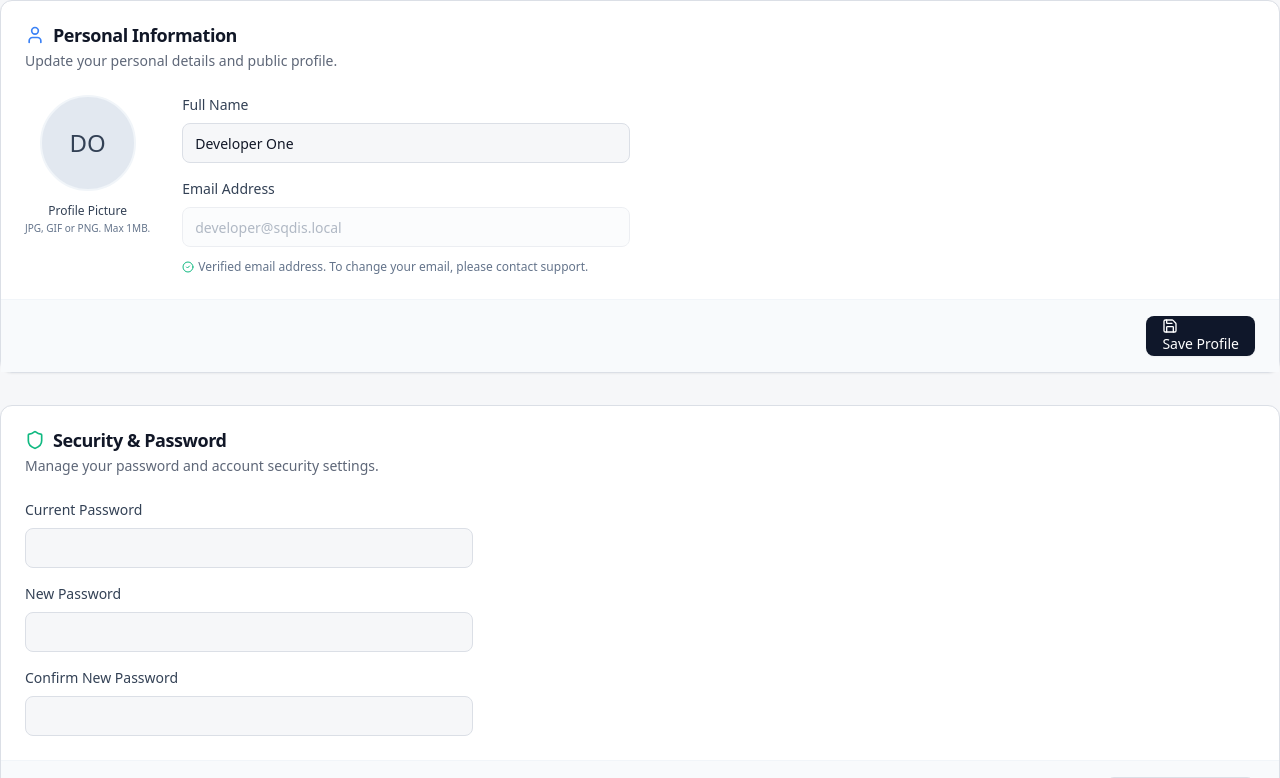
ProfileSettings › shows error when new password is too short
This screenshot has width=1280, height=778.
Type "CurrentPass123!" into the password field labelled "Current Password" at (249, 548), box [25,528,473,568]
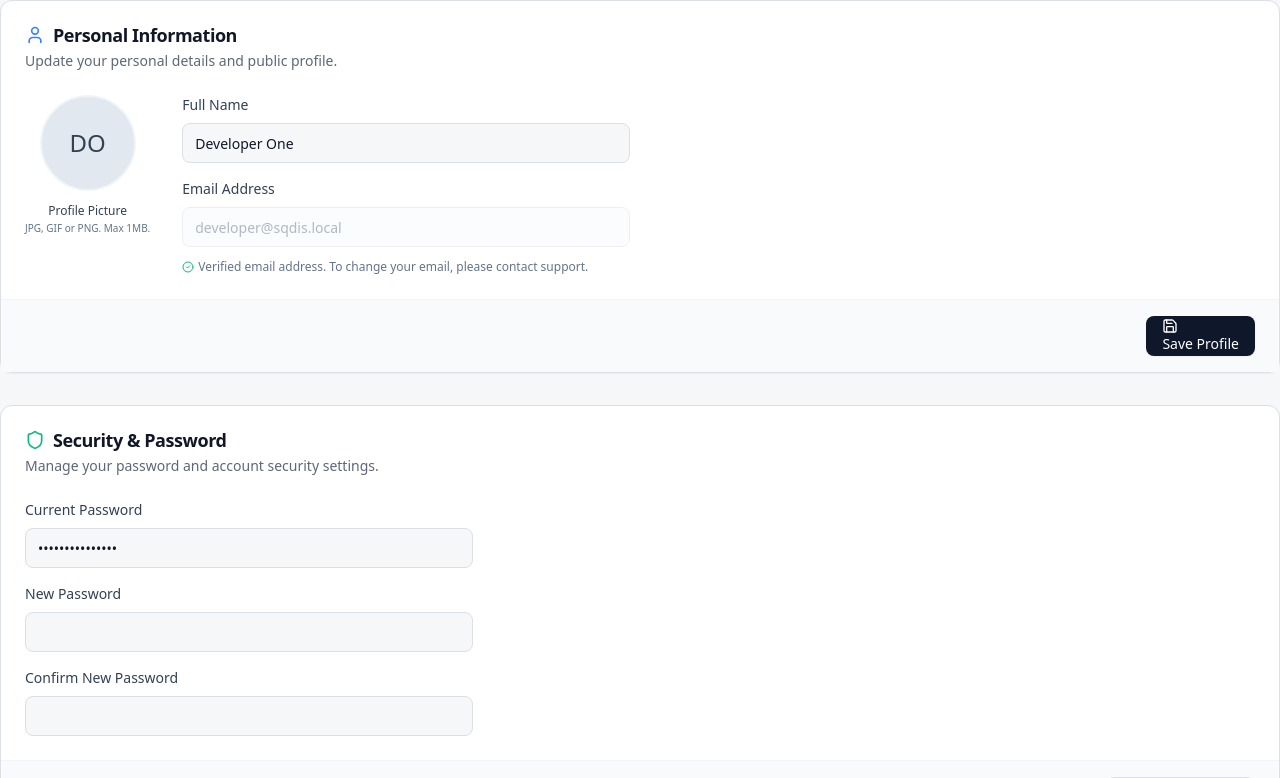
Type "short" into the password field labelled "New Password" at (249, 632), box [25,612,473,652]
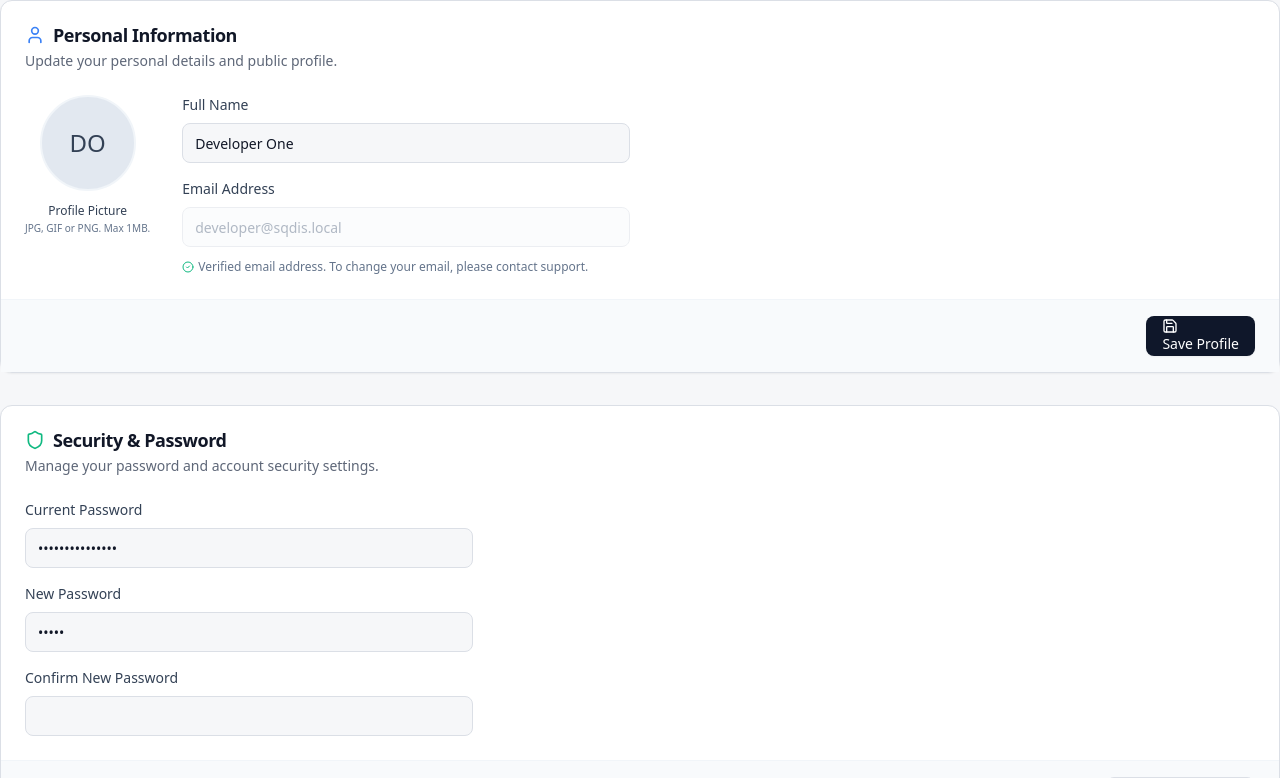
Type "short" into the password field labelled "Confirm New Password" at (249, 716), box [25,696,473,736]
(page scrolled)
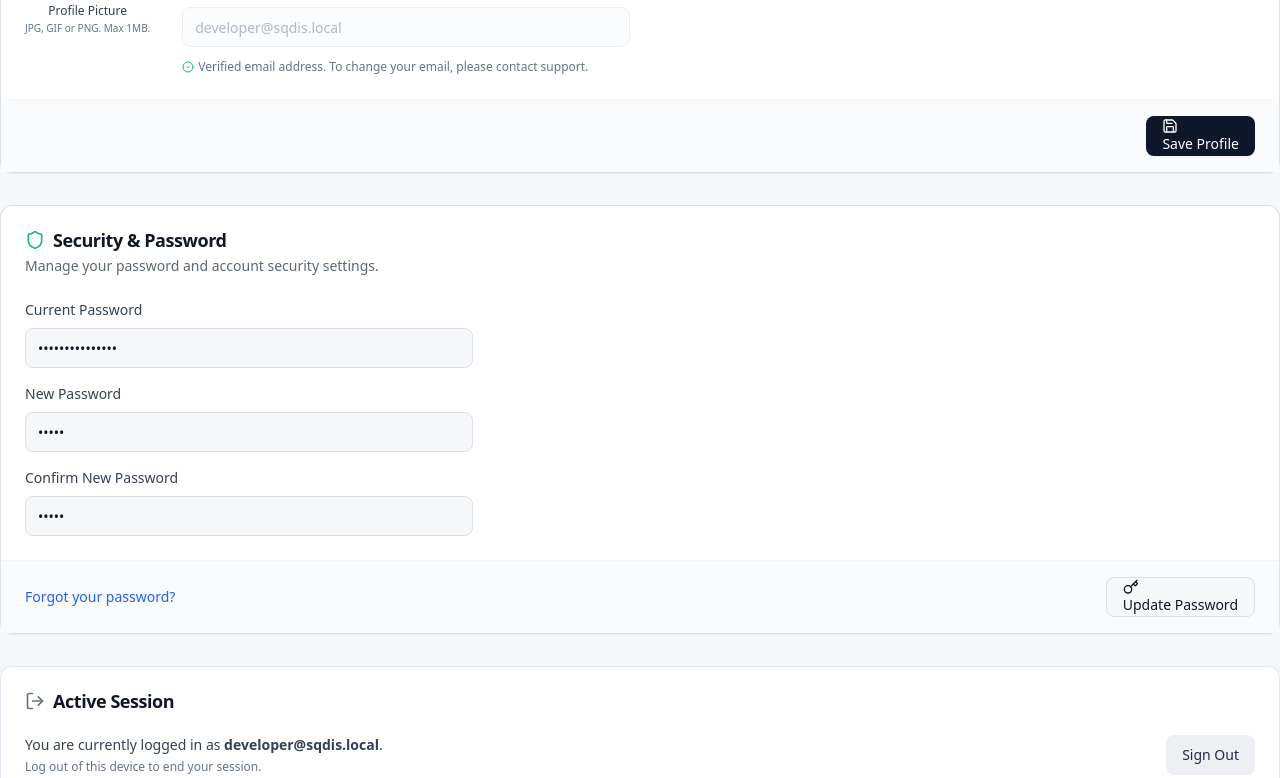
Click the button "Update Password" at (1180, 597), box [1106,577,1255,617]
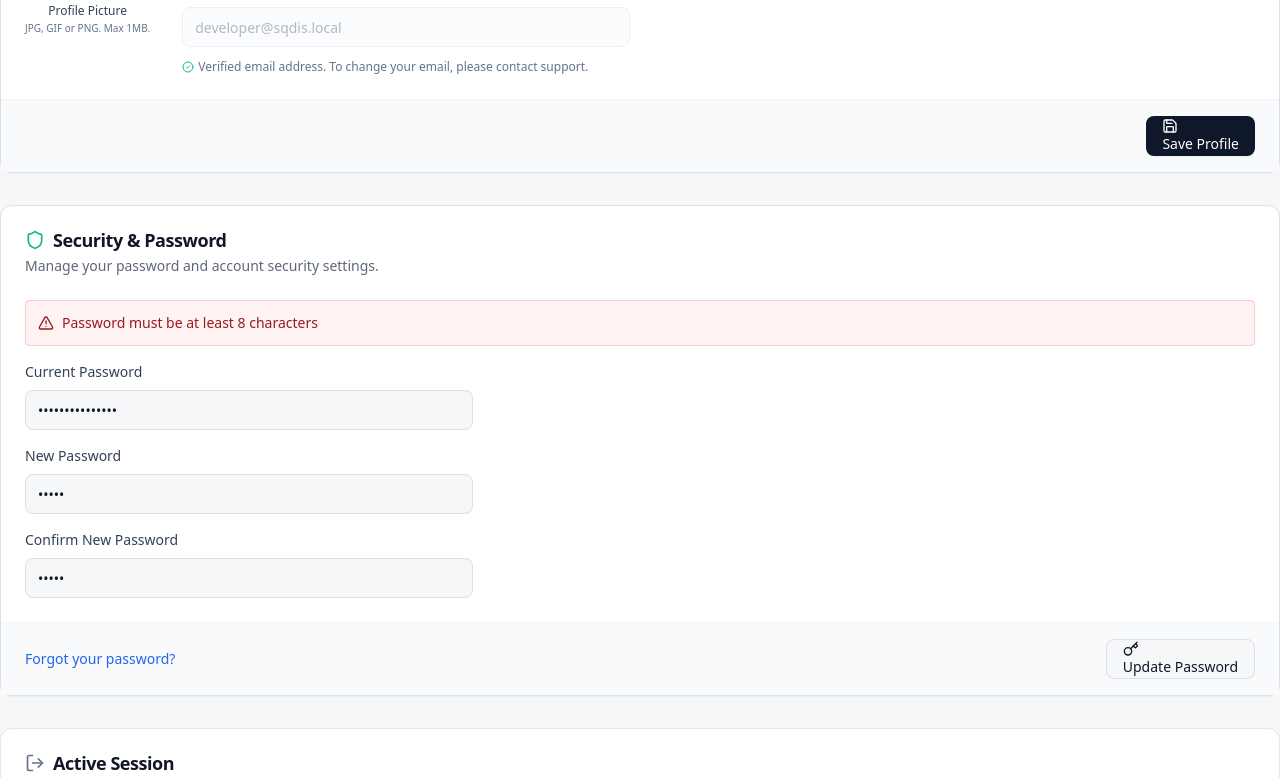
Check: the text "Password must be at least 8 characters" is shown, box [62,313,318,333]
